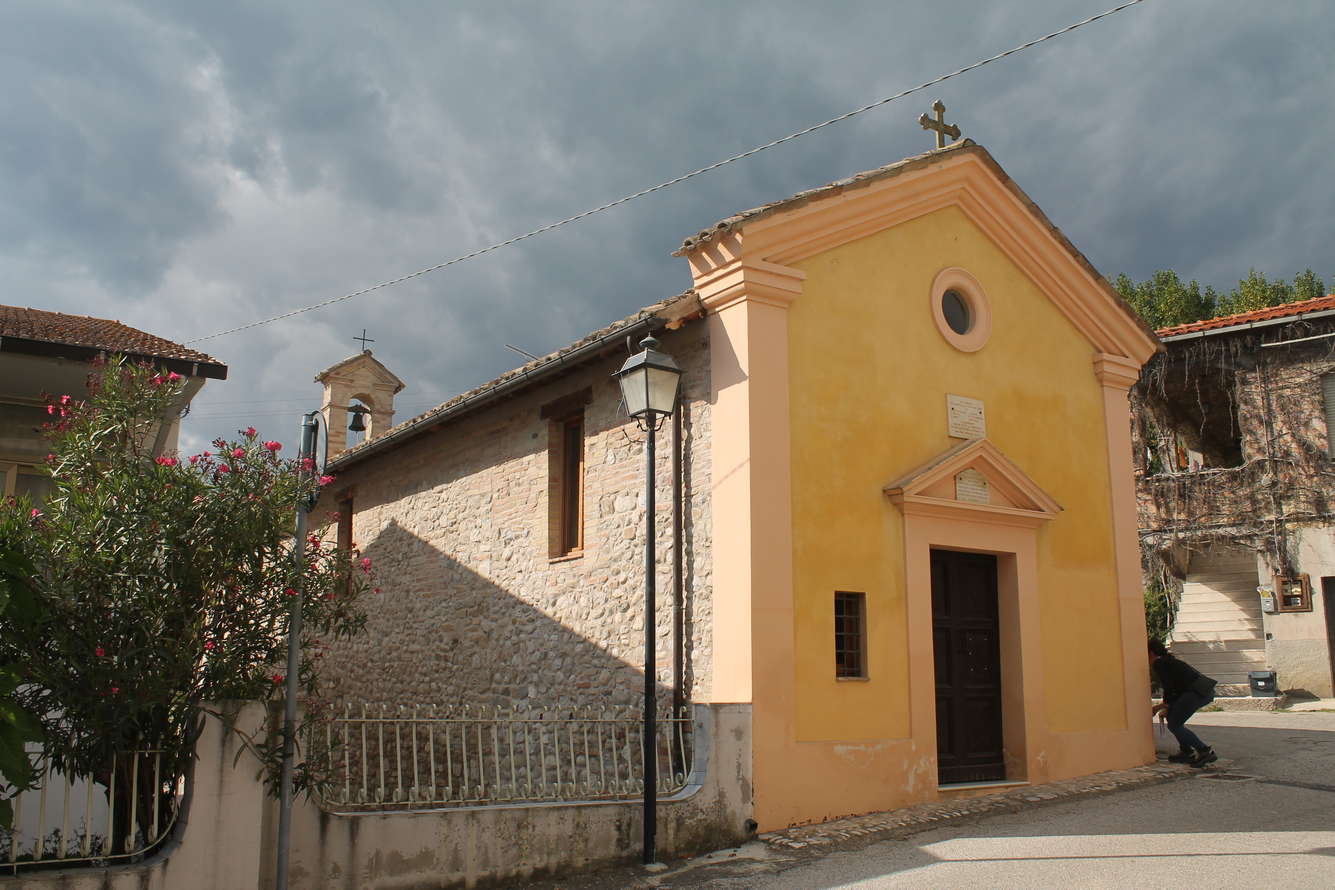Spalling: (811, 726, 1068, 803)
